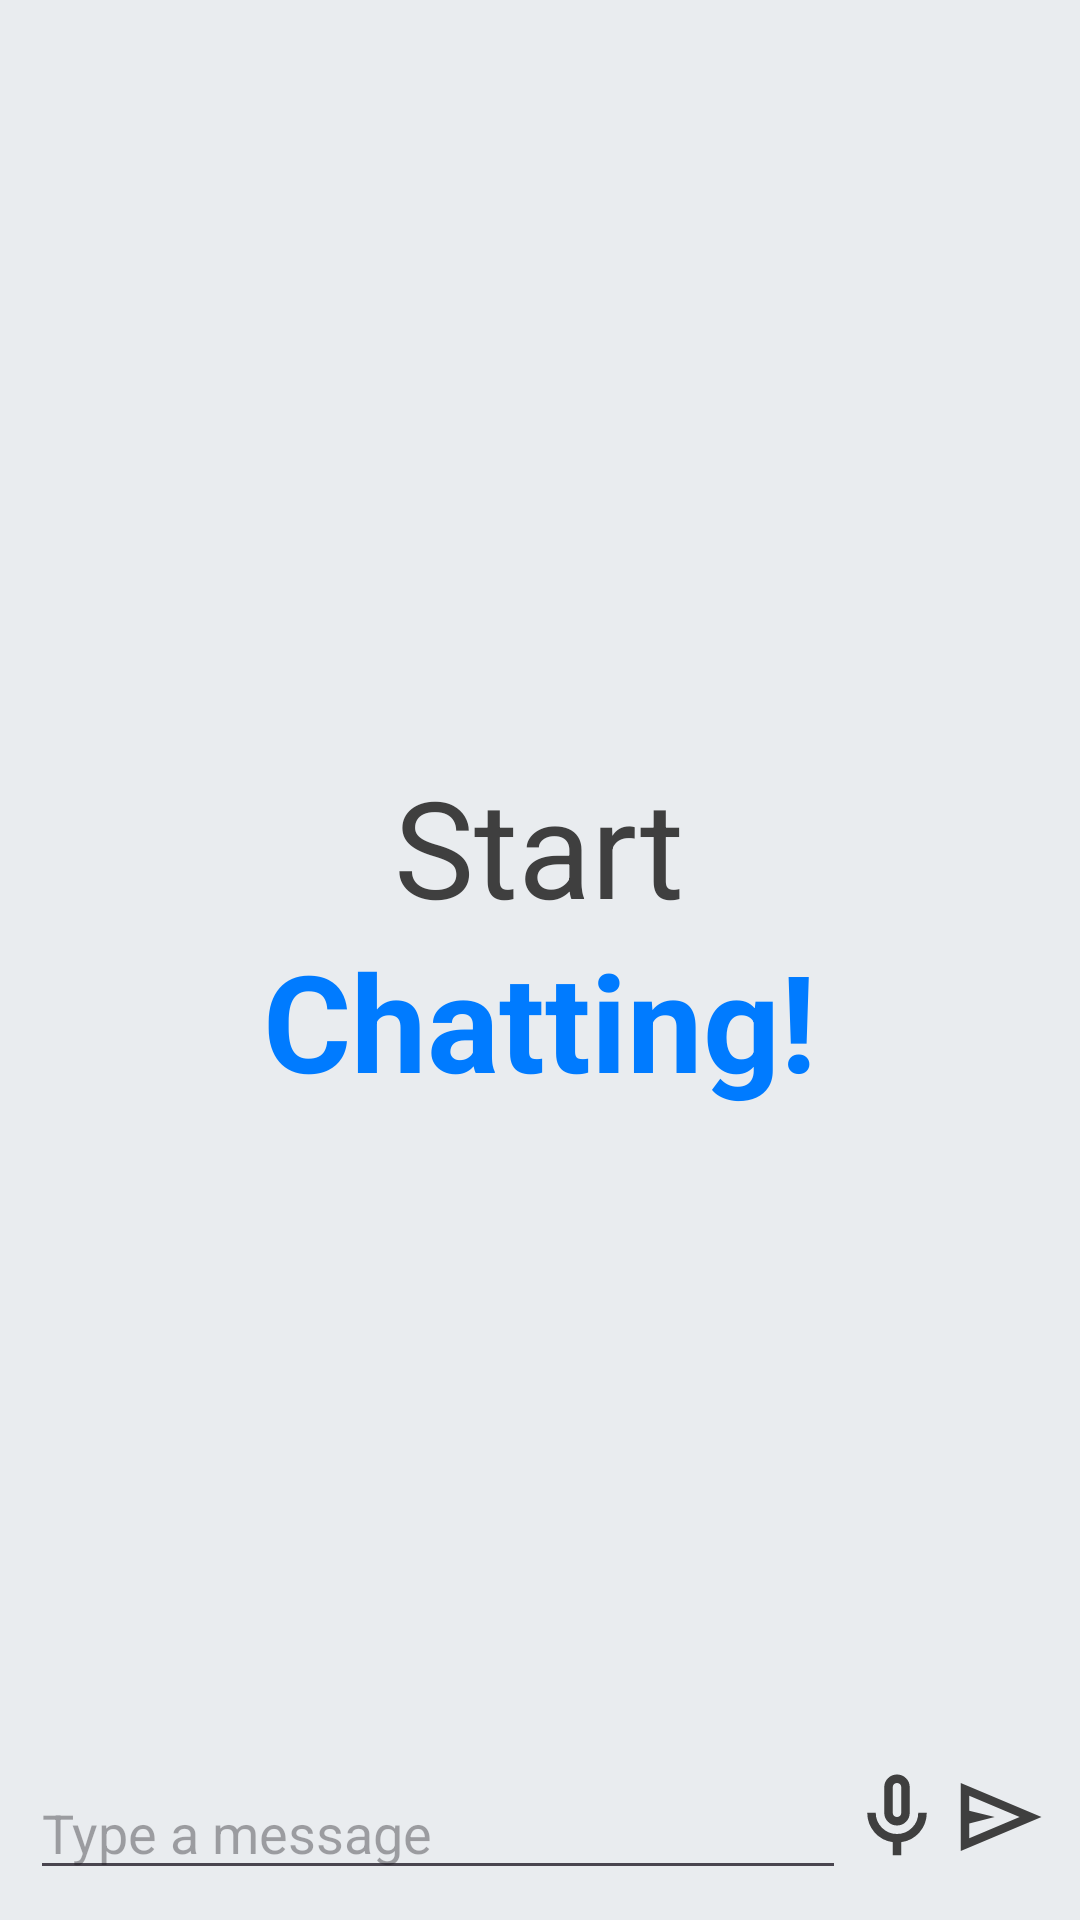

Where to tap for icons on this 1080 x 1920 app screen, as (x,y):
mic: (897,1815)
send: (1000,1817)
